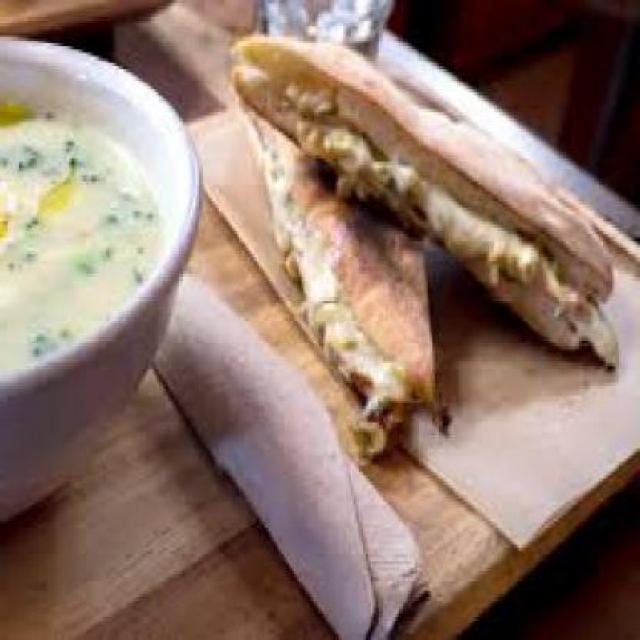clam chowder: (2, 17, 198, 478)
club sandwich: (222, 26, 621, 459)
